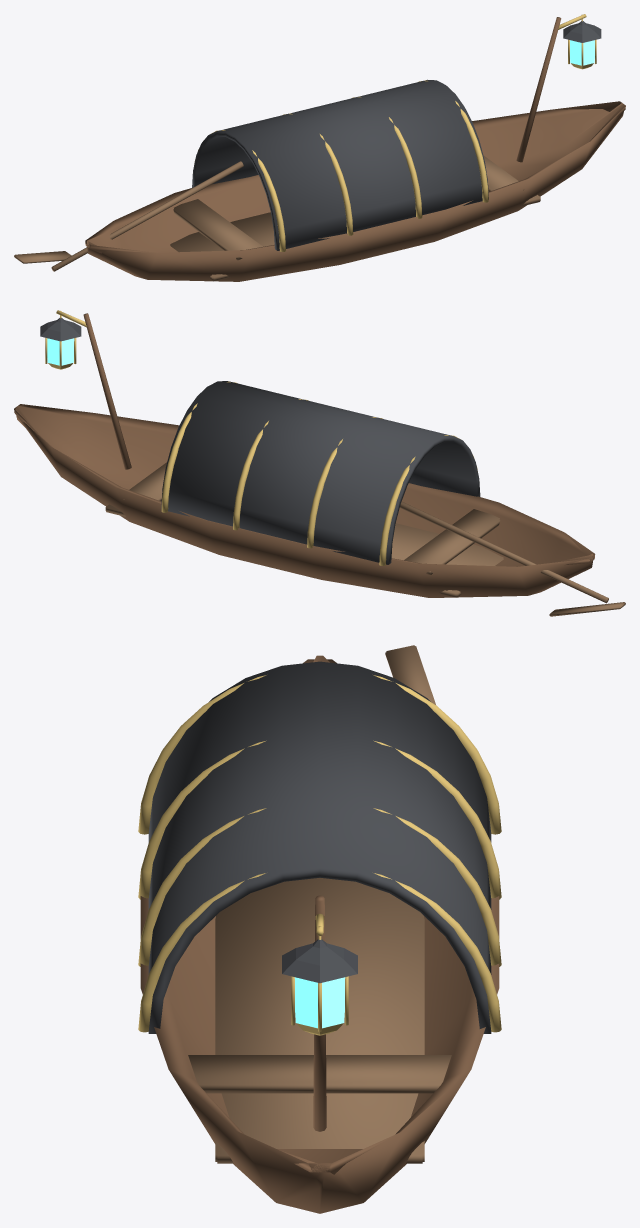
The model's file is WupengBoat.glb.
The picture shows the model from 3 angles, top to bottom: view 1: azimuth 30°, elevation 25°; view 2: azimuth 150°, elevation 25°; view 3: azimuth 270°, elevation 25°; orthographic projection. The views are drawn at different scales.
Visible parts, largest first — view 1: BambooCanopy, CurvedHull, Thwart_-1.6, DeckFloor, OarShaft, BowPole, LanternRoof, CanopyRib_-1.30, CanopyRib_-0.52, CanopyRib_1.05, CanopyRib_0.28, Thwart_1.4 (+2 smaller); view 2: BambooCanopy, CurvedHull, Thwart_-1.6, DeckFloor, OarShaft, BowPole, LanternRoof, CanopyRib_-1.30, CanopyRib_1.05, CanopyRib_0.28, CanopyRib_-0.52, Thwart_1.4 (+2 smaller); view 3: BambooCanopy, DeckFloor, CurvedHull, Thwart_1.4, CanopyRib_1.05, CanopyRib_-1.30, CanopyRib_-0.52, CanopyRib_0.28, LanternRoof, LanternCore, BowPole, OarBlade.
Boxes of the visible parts, x1=… form: BambooCanopy: x1=192, y1=79, x2=488, y2=250; CurvedHull: x1=85, y1=101, x2=625, y2=281; Thwart_-1.6: x1=173, y1=199, x2=262, y2=260; DeckFloor: x1=170, y1=195, x2=540, y2=281; OarShaft: x1=51, y1=161, x2=243, y2=271; BowPole: x1=516, y1=17, x2=561, y2=162; LanternRoof: x1=563, y1=21, x2=601, y2=42; CanopyRib_-1.30: x1=194, y1=130, x2=285, y2=251; CanopyRib_-0.52: x1=283, y1=113, x2=353, y2=235; CanopyRib_1.05: x1=418, y1=80, x2=488, y2=202; CanopyRib_0.28: x1=352, y1=96, x2=422, y2=218; Thwart_1.4: x1=483, y1=155, x2=523, y2=191; BambooCanopy: x1=161, y1=381, x2=480, y2=564; CurvedHull: x1=14, y1=404, x2=595, y2=597; Thwart_-1.6: x1=404, y1=509, x2=500, y2=574; DeckFloor: x1=105, y1=501, x2=503, y2=597; OarShaft: x1=399, y1=501, x2=608, y2=603; BowPole: x1=83, y1=313, x2=131, y2=469; LanternRoof: x1=40, y1=318, x2=81, y2=341; CanopyRib_-1.30: x1=379, y1=435, x2=477, y2=565; CanopyRib_1.05: x1=161, y1=381, x2=236, y2=512; CanopyRib_0.28: x1=233, y1=399, x2=308, y2=530; CanopyRib_-0.52: x1=307, y1=417, x2=382, y2=548; Thwart_1.4: x1=123, y1=462, x2=166, y2=500; BambooCanopy: x1=148, y1=661, x2=491, y2=1033; DeckFloor: x1=215, y1=878, x2=424, y2=1163; CurvedHull: x1=140, y1=655, x2=499, y2=1213; Thwart_1.4: x1=188, y1=1055, x2=451, y2=1093; CanopyRib_1.05: x1=138, y1=873, x2=501, y2=1032; CanopyRib_-1.30: x1=138, y1=675, x2=501, y2=834; CanopyRib_-0.52: x1=138, y1=740, x2=501, y2=899; CanopyRib_0.28: x1=138, y1=808, x2=501, y2=966; LanternRoof: x1=282, y1=939, x2=357, y2=983; LanternCore: x1=294, y1=977, x2=345, y2=1028; BowPole: x1=313, y1=895, x2=326, y2=1131; OarBlade: x1=385, y1=645, x2=435, y2=704.
Size of the model in its own units: 6.79 by 1.87 by 1.82.
